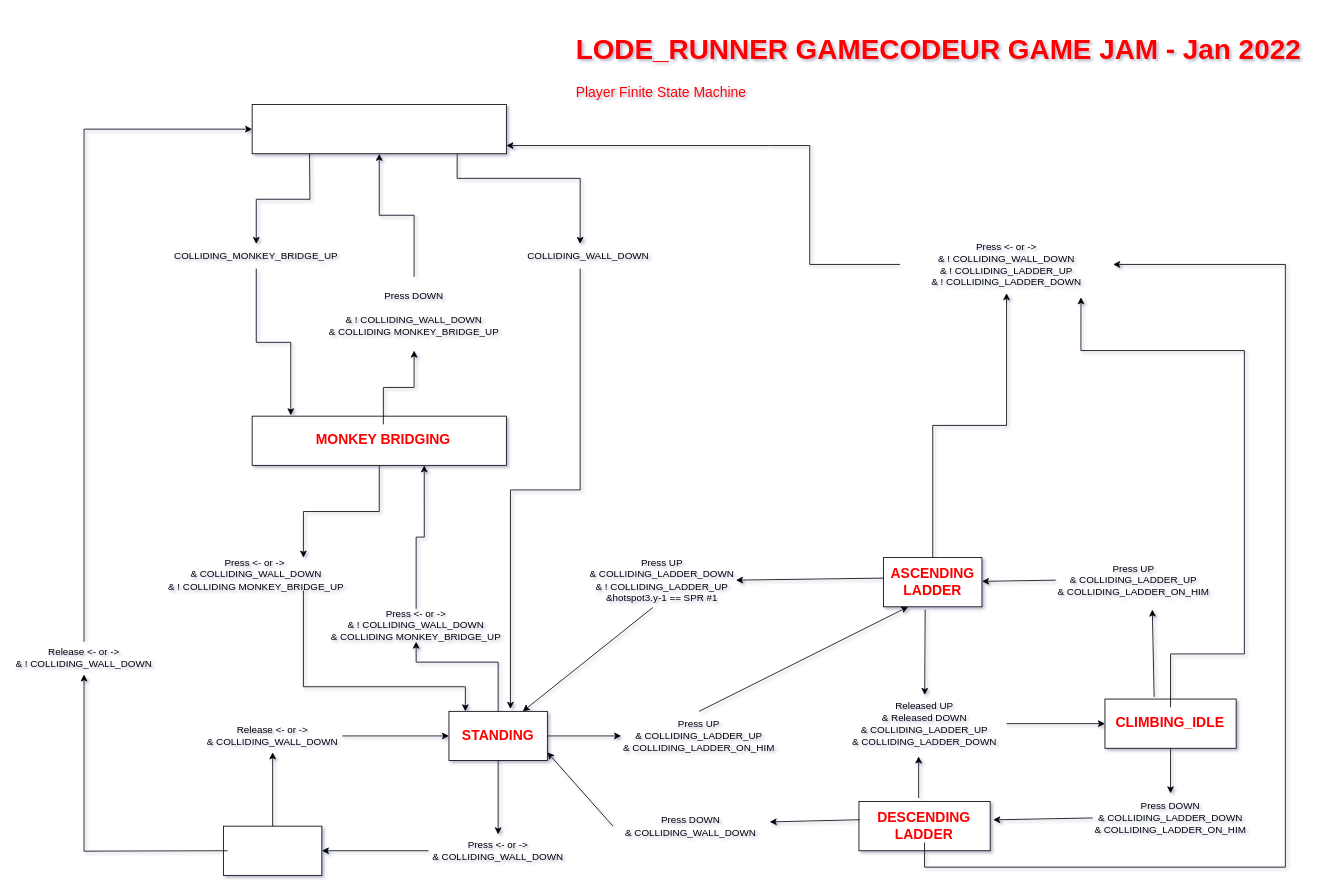
This 1328x895 diagram has some shape labels left out. The centre of each missing label's shape, as x and y in pixels:
FALLING OFF: point 378,129
WALKING: point 272,850
